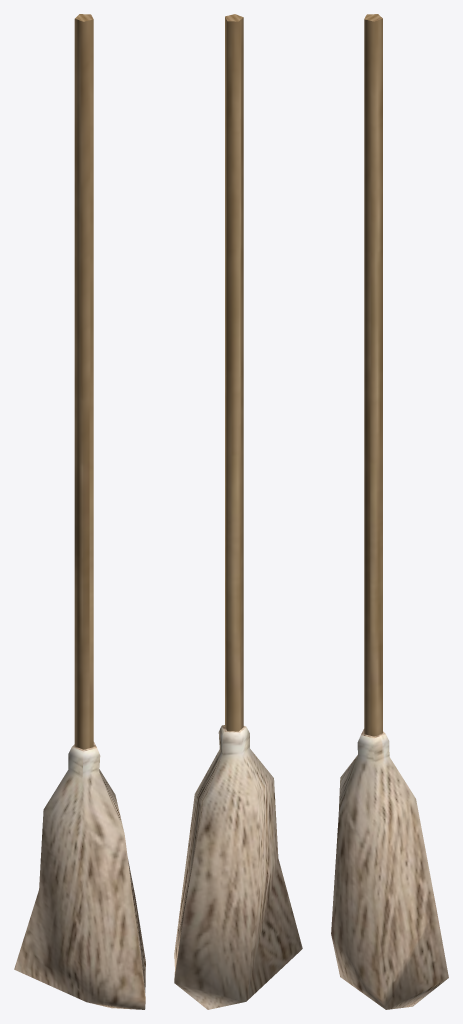
Rendered from Mop-col.glb.
3 views of the same model, side by side, from view 1: azimuth 30°, elevation 25°; view 2: azimuth 210°, elevation 25°; view 3: azimuth 330°, elevation 25° (orthographic). The views are drawn at different scales.
Visible parts, largest first — view 1: Mop-col; view 2: Mop-col; view 3: Mop-col.
Boxes of the visible parts, <box> form: Mop-col: <box>14,14,145,1009</box>; Mop-col: <box>174,14,302,1009</box>; Mop-col: <box>331,14,448,1009</box>.
Bounding box in the file's own units: 0.1935 × 1.53 × 0.1509.
Materials: 1 (1 with a texture image).
